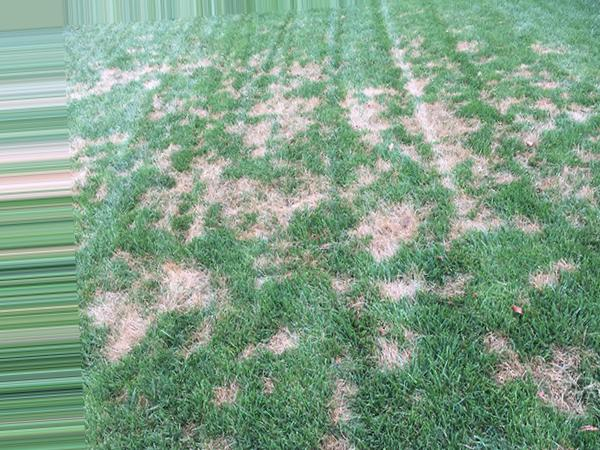patch: (299, 280, 461, 352), (194, 153, 344, 218), (382, 178, 487, 249), (185, 74, 319, 120), (111, 277, 223, 331), (379, 101, 477, 154), (518, 337, 591, 395), (333, 383, 398, 434)
